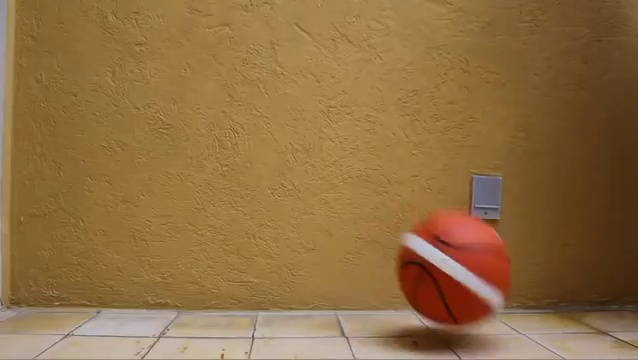ball: (398, 209, 511, 324)
